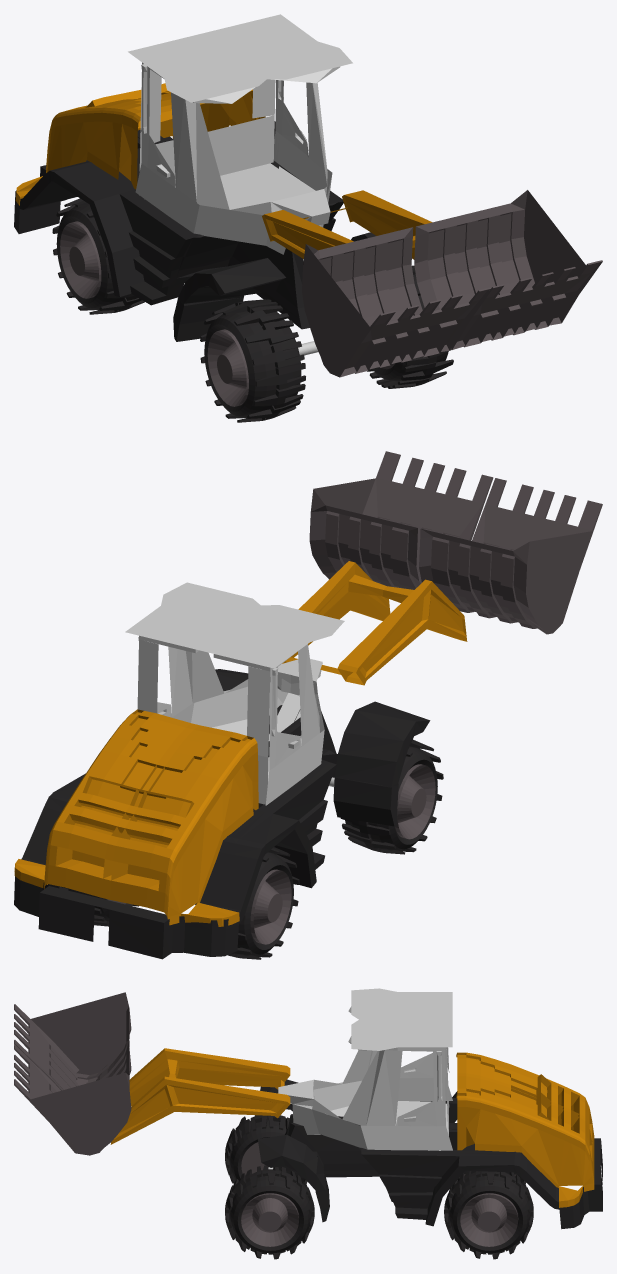
Rendered from LIEBHERRL538NoLiftPistons.dae.
3 views of the same model, one above another, from view 1: azimuth 30°, elevation 25°; view 2: azimuth 150°, elevation 25°; view 3: azimuth 270°, elevation 25° (orthographic). The views are drawn at different scales.
Parts seen in each view (by area): view 1: loaderBucket, Cab, Chassis, BackHood, rightTopTire, LoaderLiftArm, rightBackTire, backLeftRim_001, backLeftRim, leftTopTire; view 2: BackHood, loaderBucket, Chassis, Cab, LoaderLiftArm, rightTopTire, backLeftRim_001, backLeftRim, rightBackTire; view 3: Cab, loaderBucket, Chassis, BackHood, LoaderLiftArm, leftTopTire, leftBackTire, rightLeftRim, backLeftRim_002, rightTopTire, backLeftRim.
Part boxes in pixels (x1=…): loaderBucket: x1=302, y1=190, x2=602, y2=377; Cab: x1=128, y1=14, x2=352, y2=260; Chassis: x1=14, y1=121, x2=375, y2=341; BackHood: x1=15, y1=83, x2=265, y2=205; rightTopTire: x1=200, y1=299, x2=305, y2=422; LoaderLiftArm: x1=262, y1=190, x2=432, y2=259; rightBackTire: x1=52, y1=198, x2=144, y2=314; backLeftRim_001: x1=60, y1=221, x2=101, y2=298; backLeftRim: x1=207, y1=329, x2=248, y2=406; leftTopTire: x1=367, y1=265, x2=453, y2=388; BackHood: x1=14, y1=709, x2=258, y2=926; loaderBucket: x1=309, y1=451, x2=602, y2=634; Chassis: x1=14, y1=669, x2=430, y2=959; Cab: x1=125, y1=582, x2=344, y2=805; LoaderLiftArm: x1=282, y1=561, x2=467, y2=685; rightTopTire: x1=340, y1=739, x2=443, y2=854; backLeftRim_001: x1=250, y1=869, x2=291, y2=944; backLeftRim: x1=395, y1=764, x2=435, y2=839; rightBackTire: x1=228, y1=847, x2=299, y2=959; Cab: x1=278, y1=988, x2=452, y2=1150; loaderBucket: x1=14, y1=992, x2=131, y2=1155; Chassis: x1=258, y1=1079, x2=602, y2=1229; BackHood: x1=456, y1=1052, x2=594, y2=1207; LoaderLiftArm: x1=110, y1=1048, x2=290, y2=1144; leftTopTire: x1=225, y1=1165, x2=314, y2=1259; leftBackTire: x1=444, y1=1170, x2=533, y2=1259; rightLeftRim: x1=241, y1=1193, x2=298, y2=1246; backLeftRim_002: x1=460, y1=1193, x2=518, y2=1246; rightTopTire: x1=225, y1=1114, x2=307, y2=1183; backLeftRim: x1=241, y1=1142, x2=265, y2=1174.
Bounding box in the file's own units: 6.92 × 20.32 × 7.84.
